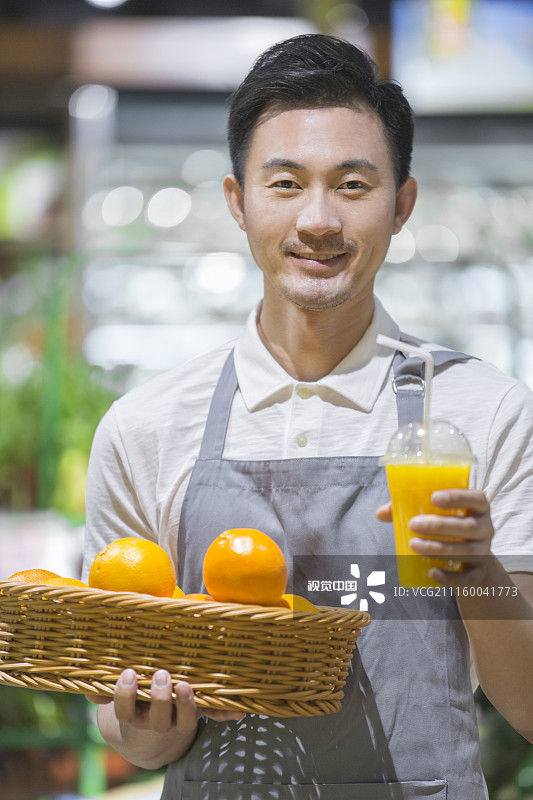no-phone: (362, 472, 503, 594), (76, 660, 217, 777)
